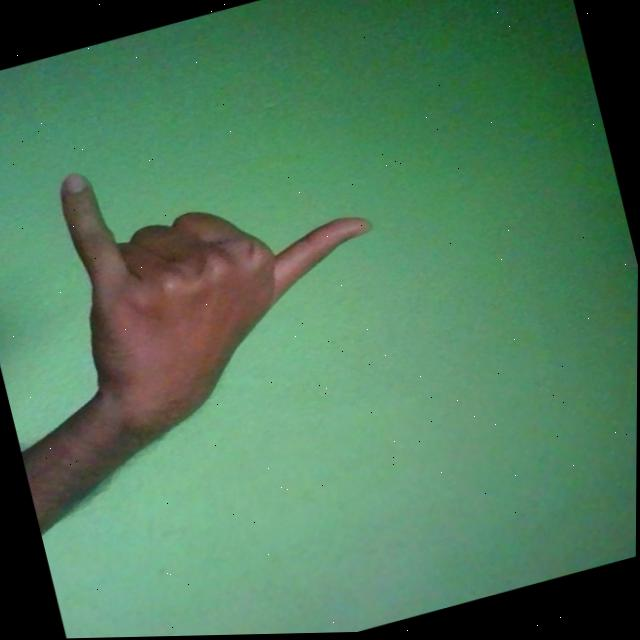Call Me: (43, 100, 409, 458)
